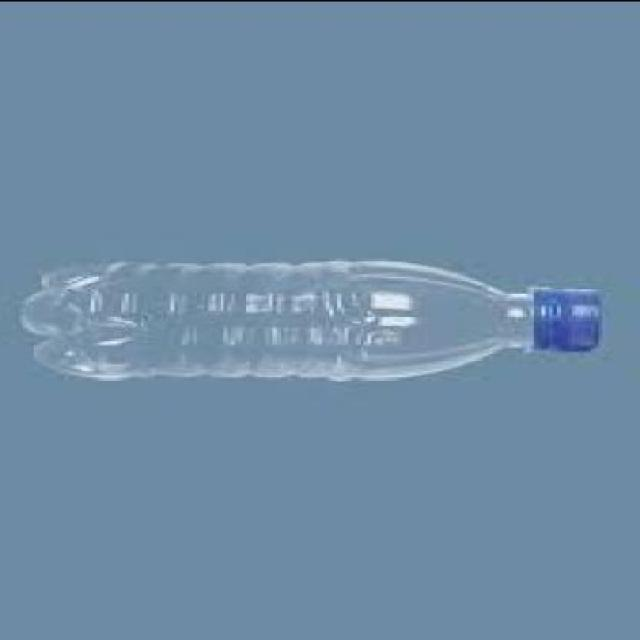PLASTIC: (27, 258, 605, 376), (534, 283, 601, 351)
